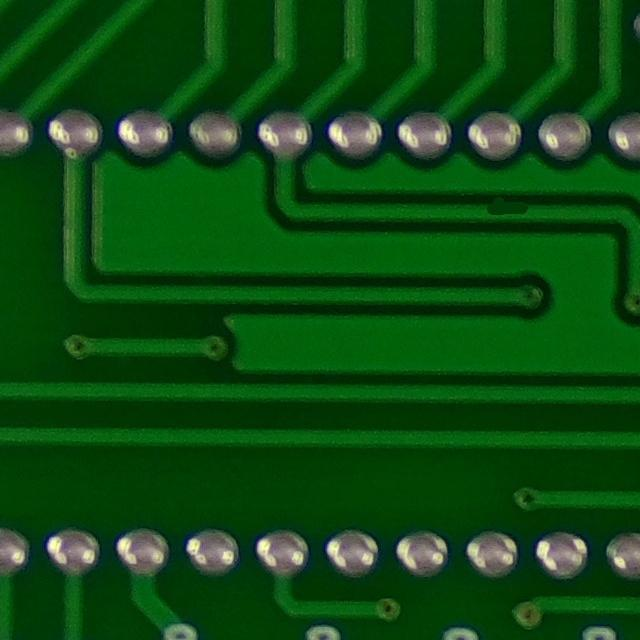mouse_bite: (474, 190, 540, 229)
